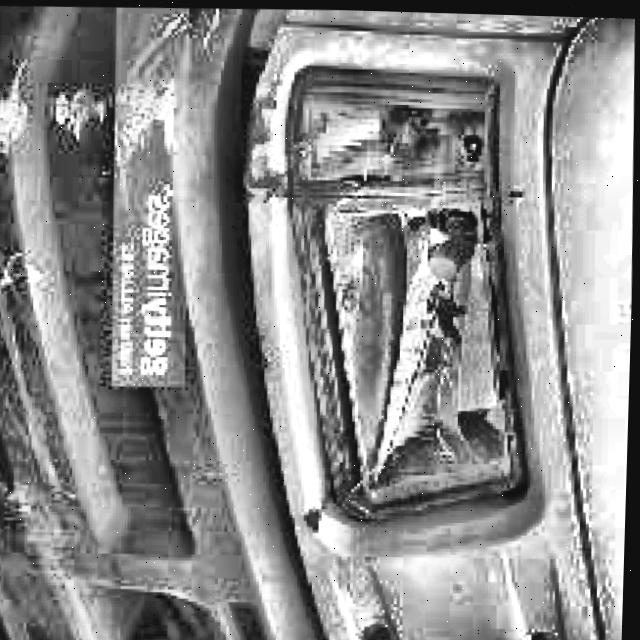head_lamp: (306, 185, 534, 491)
